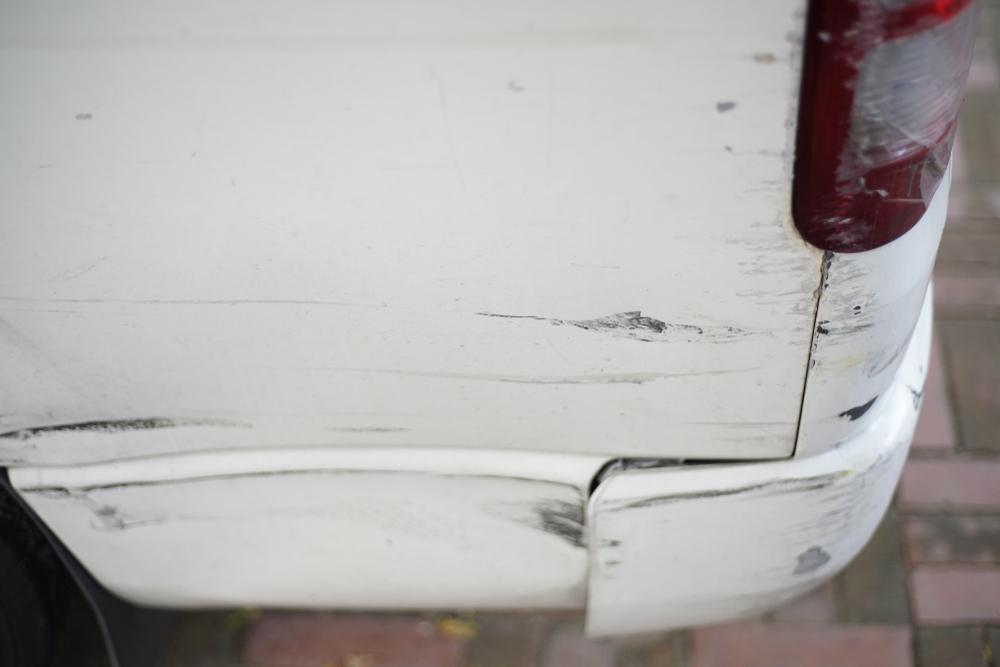scratch: (0, 0, 828, 566), (604, 253, 919, 611)
